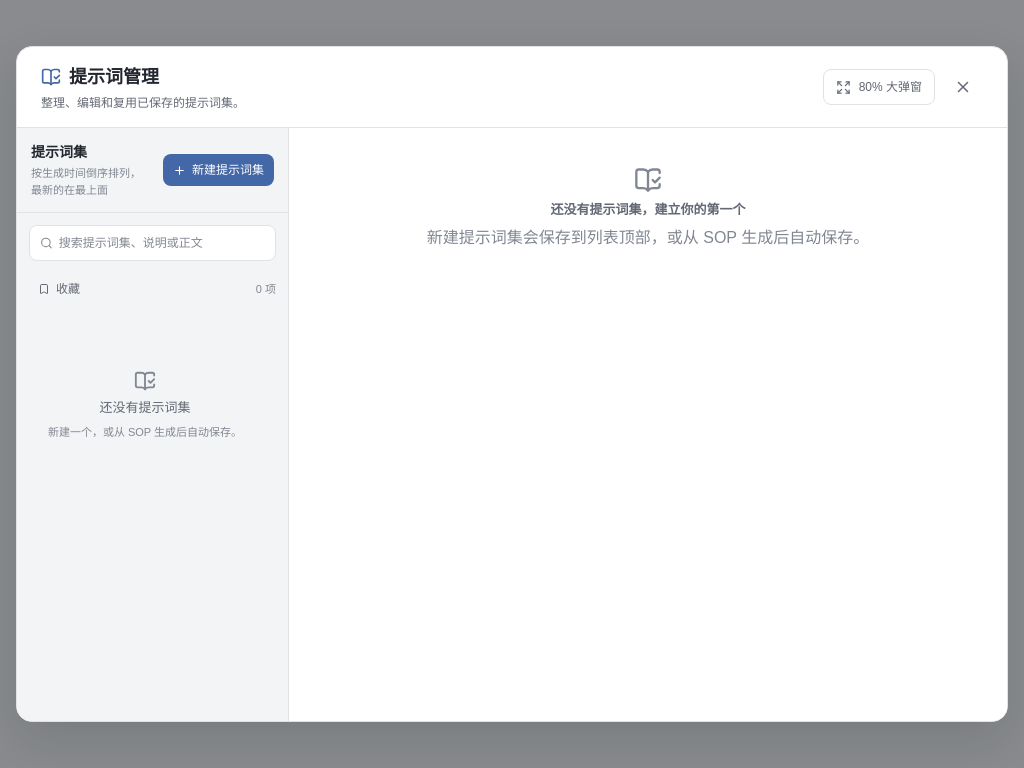
Scenario: GallerySopBatchModal background generation › creates and persists an independent prompt collection without an SOP
Click the button "新建提示词集": [218, 170] box [163,154,274,186]
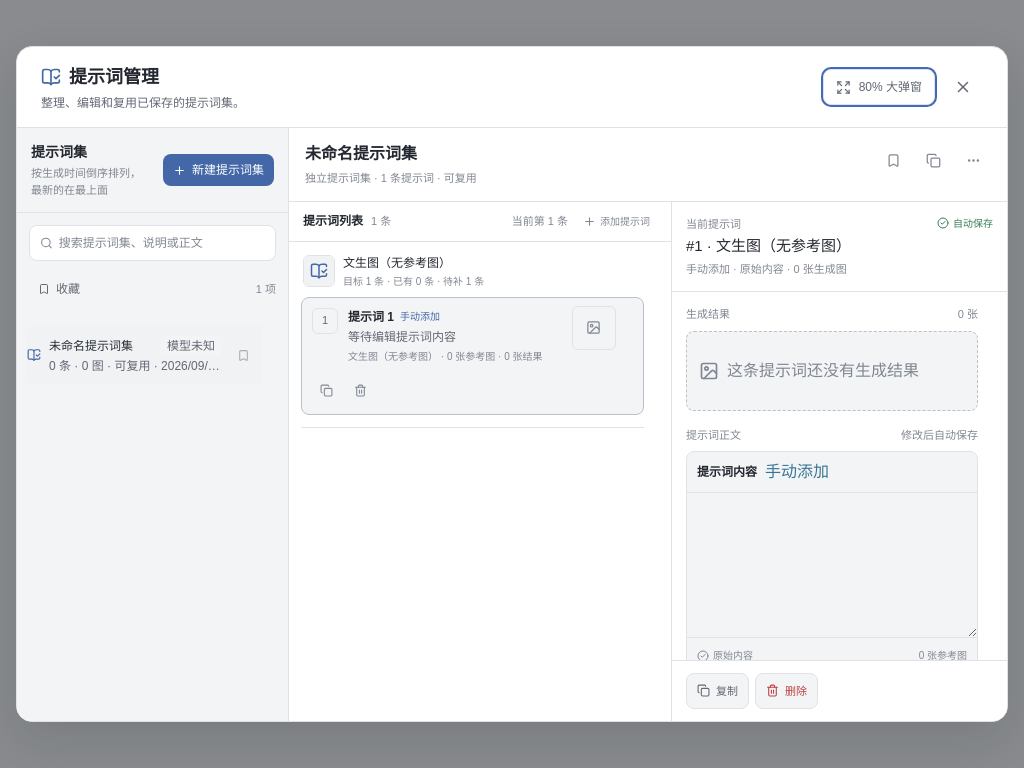
Check: the field named "提示词集名称" holds "未命名提示词集", box [305,142,859,166]
Check: the text box named "第 1 条提示词" is shown, box [687,494,977,638]
